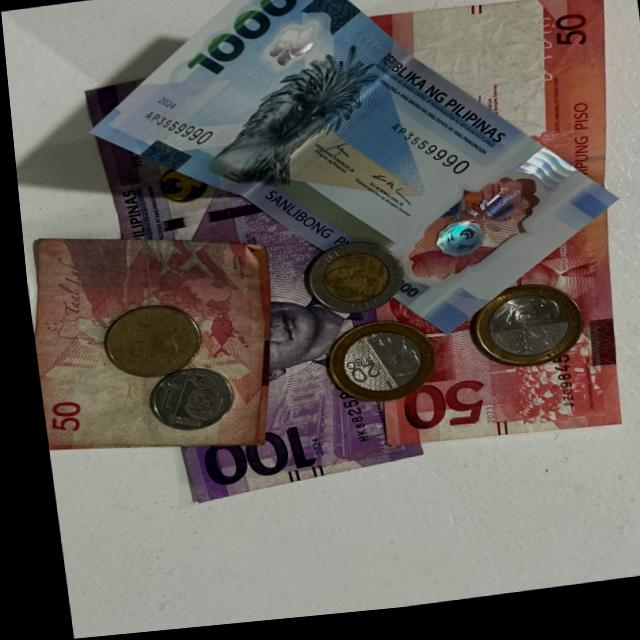10_Old_Front: (329, 257, 366, 282)
1_New_Front: (147, 378, 175, 419)
20_New_Front: (494, 335, 553, 367), (331, 360, 377, 396)
5_Old_Front: (113, 329, 151, 367)
security_thread: (141, 208, 255, 241)
see_through_mark: (515, 17, 566, 106)
serial_number: (387, 115, 474, 196), (134, 100, 217, 167), (532, 361, 574, 428)
